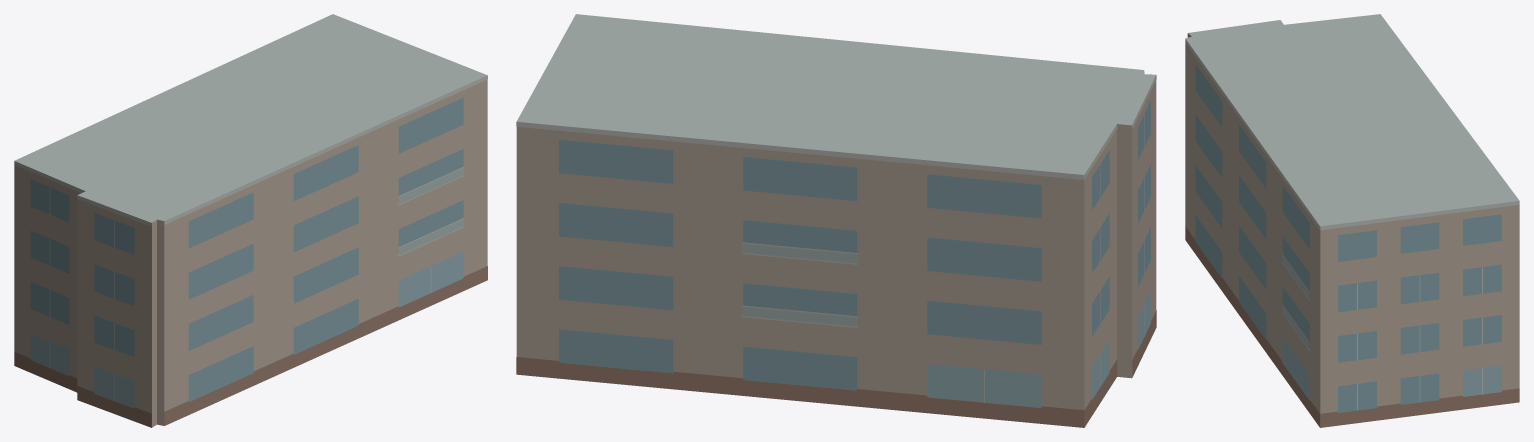
File: survey-upis-32750713.glb
3 views of the same model, side by side, from view 1: azimuth 30°, elevation 25°; view 2: azimuth 150°, elevation 25°; view 3: azimuth 270°, elevation 25° (orthographic). The views are drawn at different scales.
Parts seen in each view (by area): view 1: survey-upis-32750713.tmp; view 2: survey-upis-32750713.tmp; view 3: survey-upis-32750713.tmp.
Boxes of the visible parts, <box> form: survey-upis-32750713.tmp: <box>14,14,487,427</box>; survey-upis-32750713.tmp: <box>516,14,1156,427</box>; survey-upis-32750713.tmp: <box>1185,14,1519,427</box>.
Bounding box in the file's own units: 28.27 × 12.5 × 18.81.
